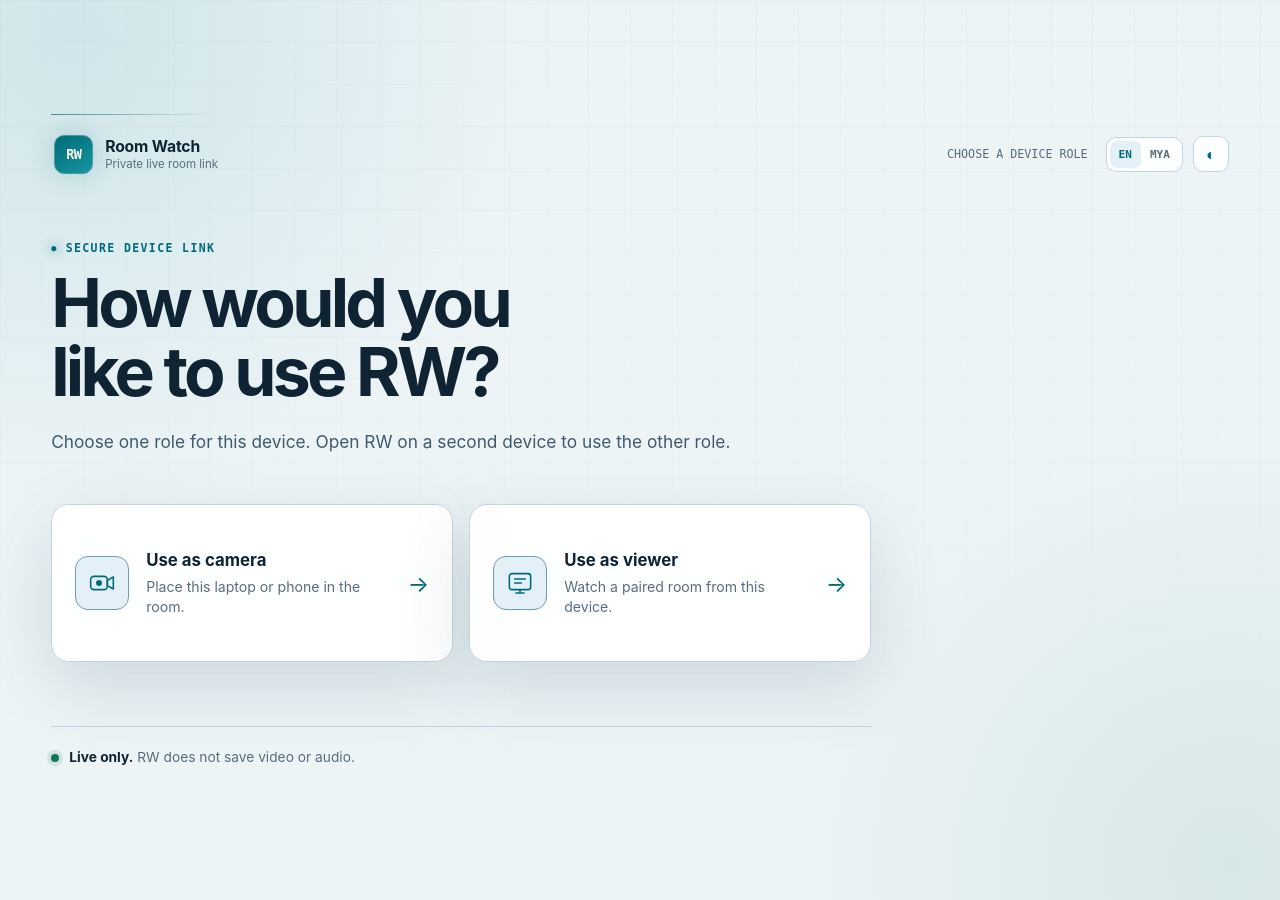
RW role-selection screens › opens the viewer pairing screen
This screenshot has width=1280, height=900.
Click the button "Use as viewer Watch a paired room from this device. →". click: (670, 584)
box: x1=469 y1=504 x2=871 y2=662
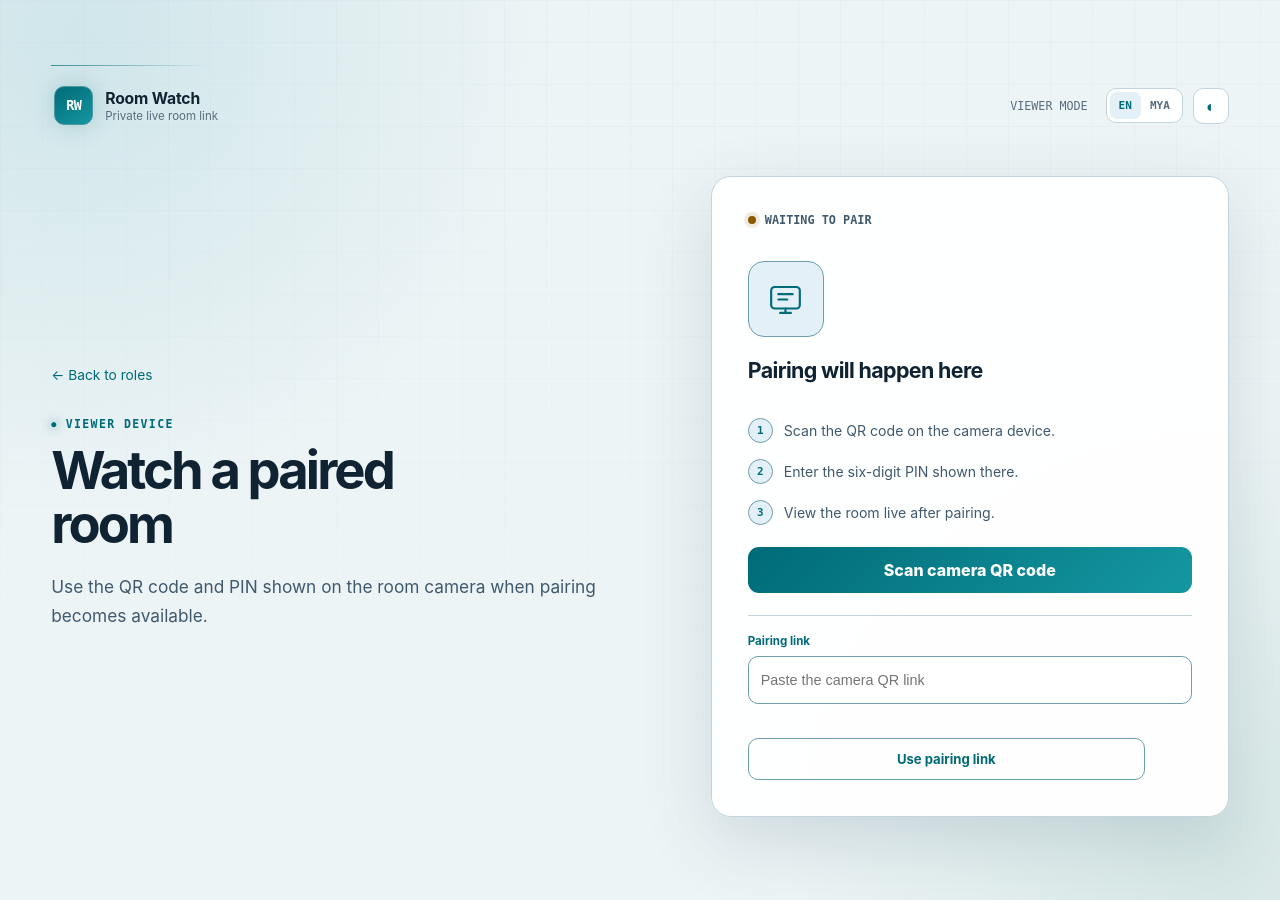
Expected: the heading "Watch a paired room" is shown, x1=51 y1=438 x2=393 y2=556
Now the text "Waiting to pair" is shown, box x1=765 y1=213 x2=872 y2=227
